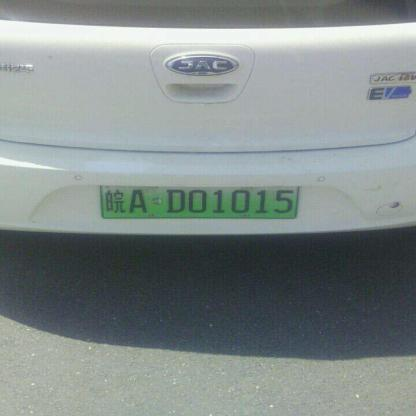lp: (100, 186, 297, 218)
